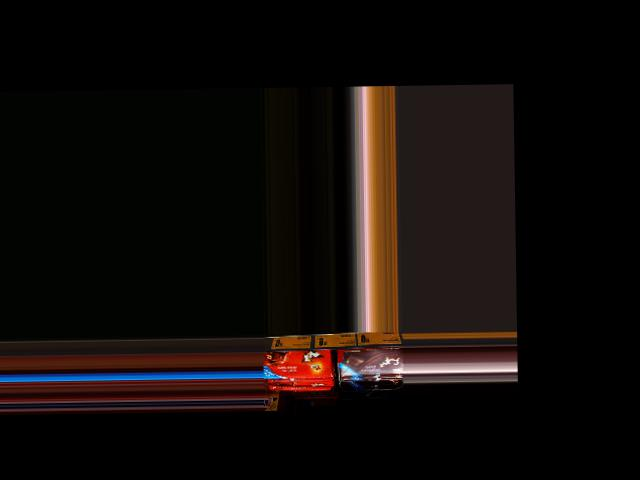chocolate: (343, 341, 404, 379)
